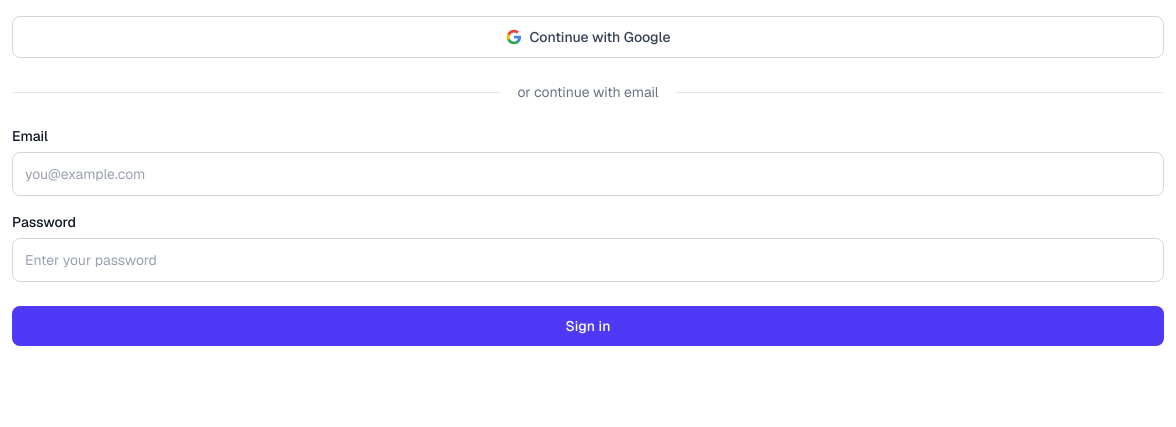
Test: SignInForm component › shows error message on failed sign in
Type "test@example.com" into the field labelled "Email" at {"x": 588, "y": 174}, box [12,152,1164,196]
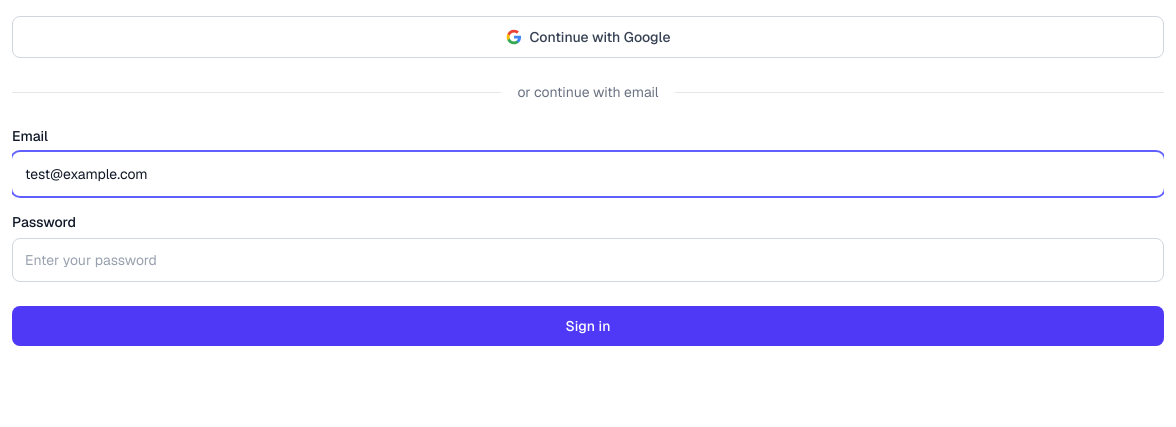
Type "wrongpassword" into the password field labelled "Password" at {"x": 588, "y": 260}, box [12,238,1164,282]
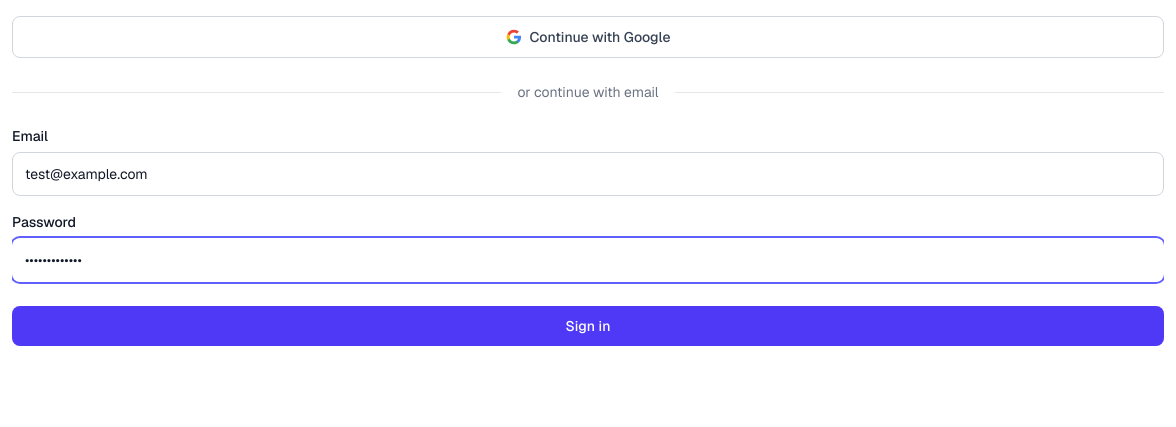
Click the button "Sign in" at {"x": 588, "y": 326}, box [12,306,1164,346]
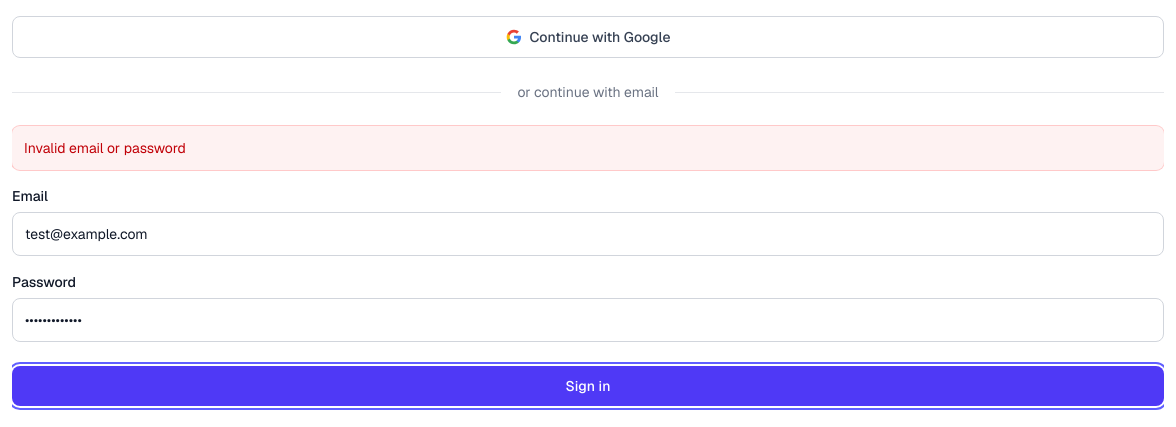
Result: the text "Invalid email or password" is shown at [24,139,186,157]
